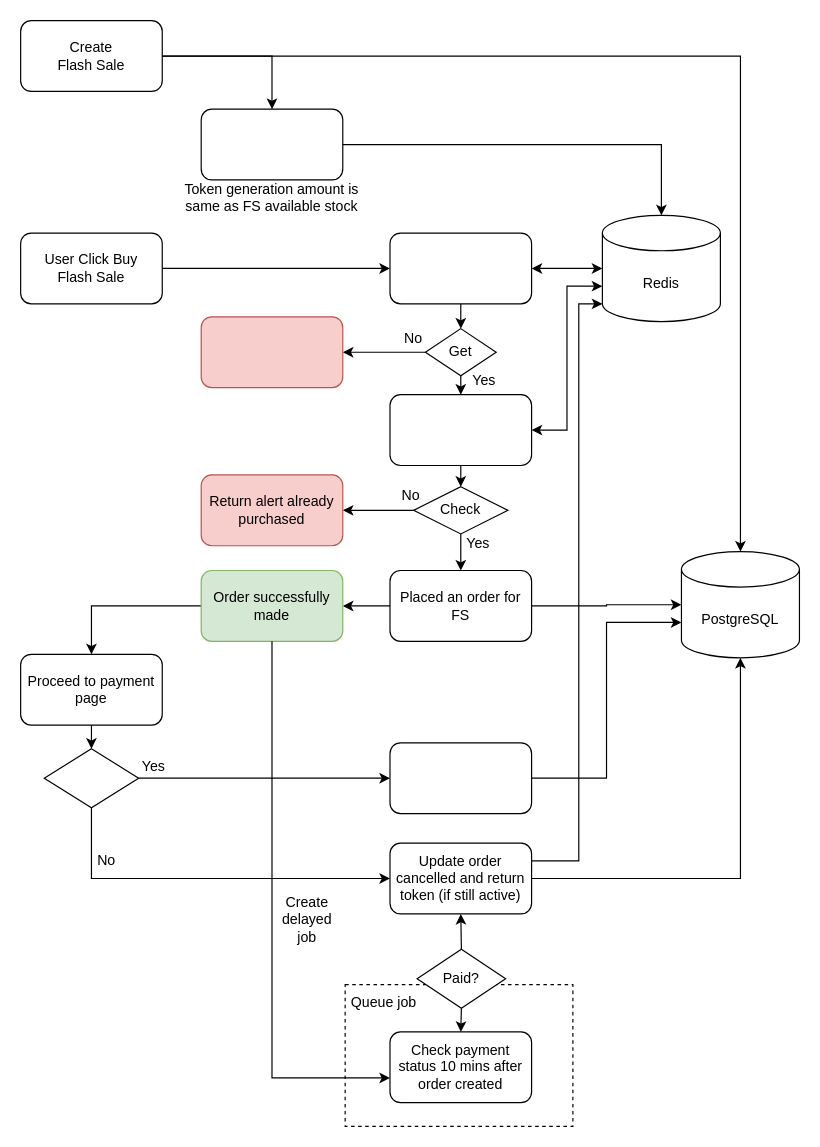
The diagram is 820 pixels wide and 1147 high, and some of its shapes have lost their labels. The centre of each missing label's shape, as x and y in pixels:
"Check User had purchase FS" belongs at [460,430].
"Generate FS Token" belongs at [271,144].
"Get FS Token" belongs at [460,268].
"Pay?" belongs at [91,778].
"Return alert sold out" belongs at [271,352].
"Update payment status" belongs at [460,778].
